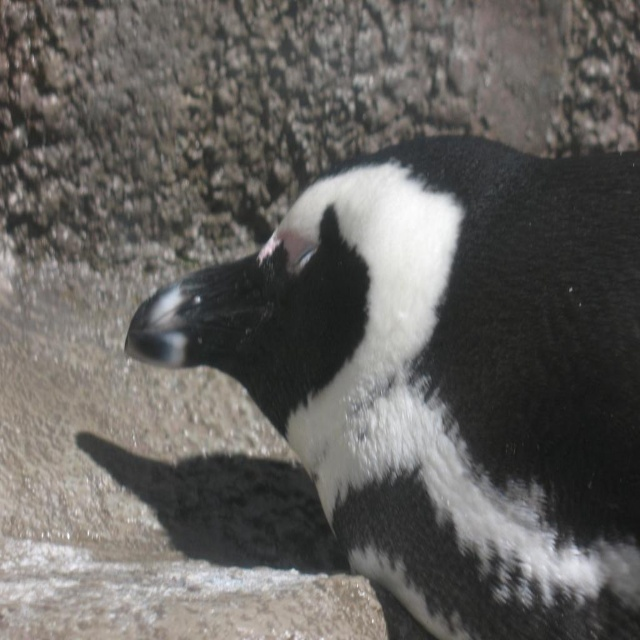Penguin: (120, 132, 624, 630)
